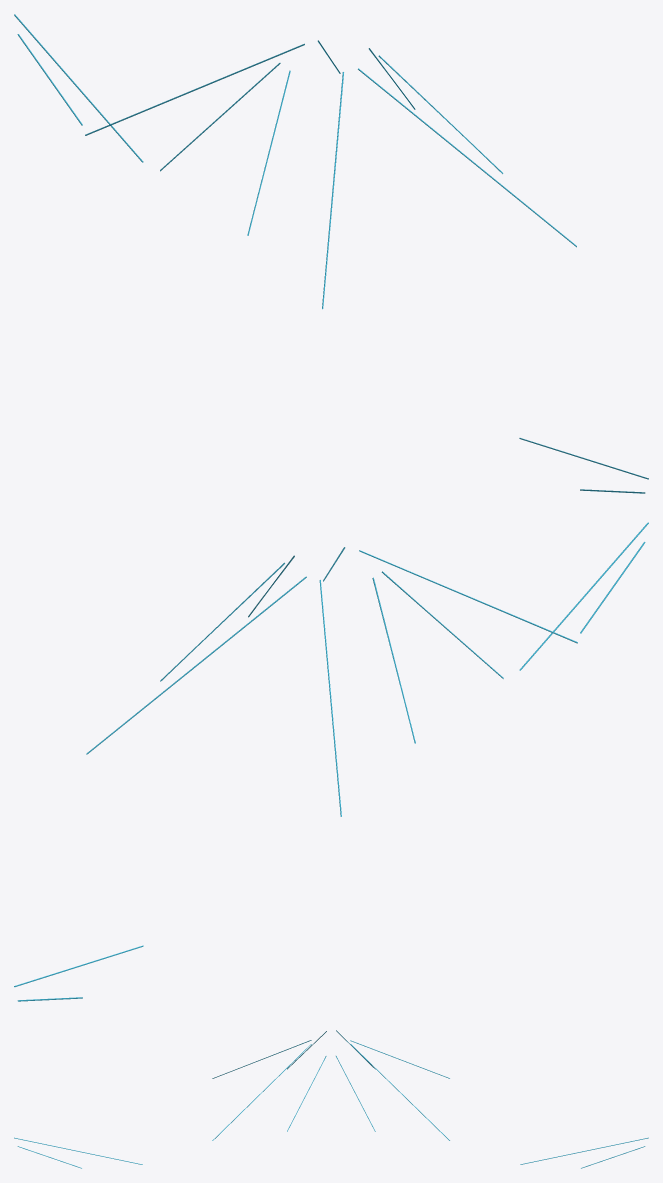
Rendered from cluster_2.fbx.
3 views of the same model, one above another, from view 1: azimuth 30°, elevation 25°; view 2: azimuth 150°, elevation 25°; view 3: azimuth 270°, elevation 25° (orthographic). The views are drawn at different scales.
Parts seen in each view (by area): view 1: cluster_2; view 2: cluster_2; view 3: cluster_2.
Part boxes in pixels (x1,y1,x2,y2): cluster_2: (14,14,648,493); cluster_2: (14,522,648,1001); cluster_2: (14,1030,648,1168).
Size of the model in its own units: 257098 by 243367 by 1103068.
